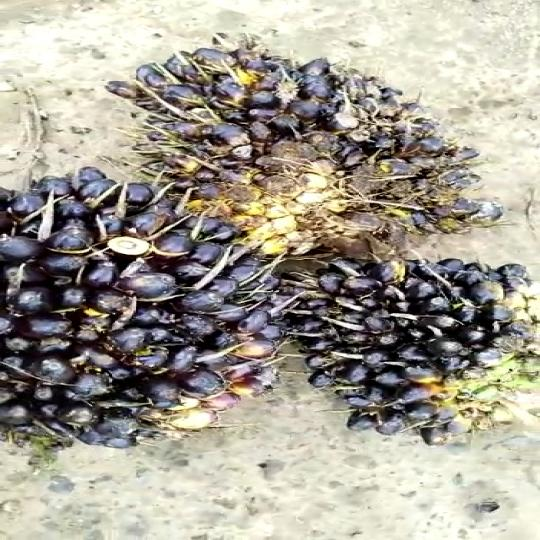mentah: (105, 40, 512, 260), (0, 149, 277, 465), (268, 241, 540, 458)
